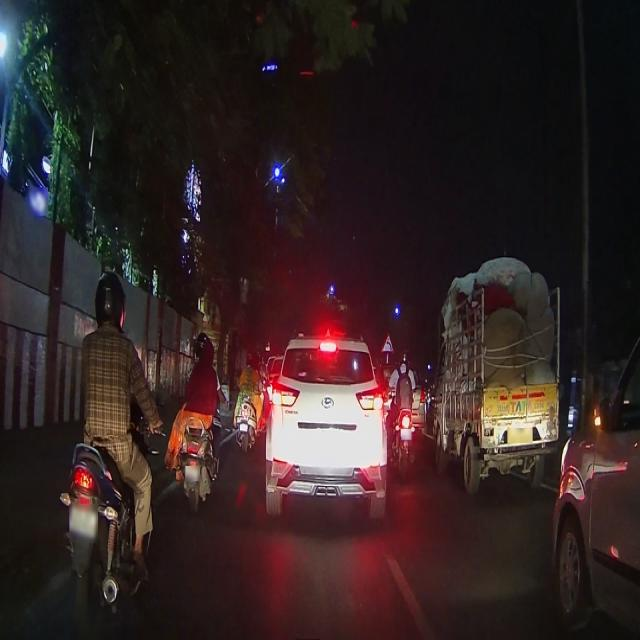left-hand-curve: (380, 332, 396, 357)
